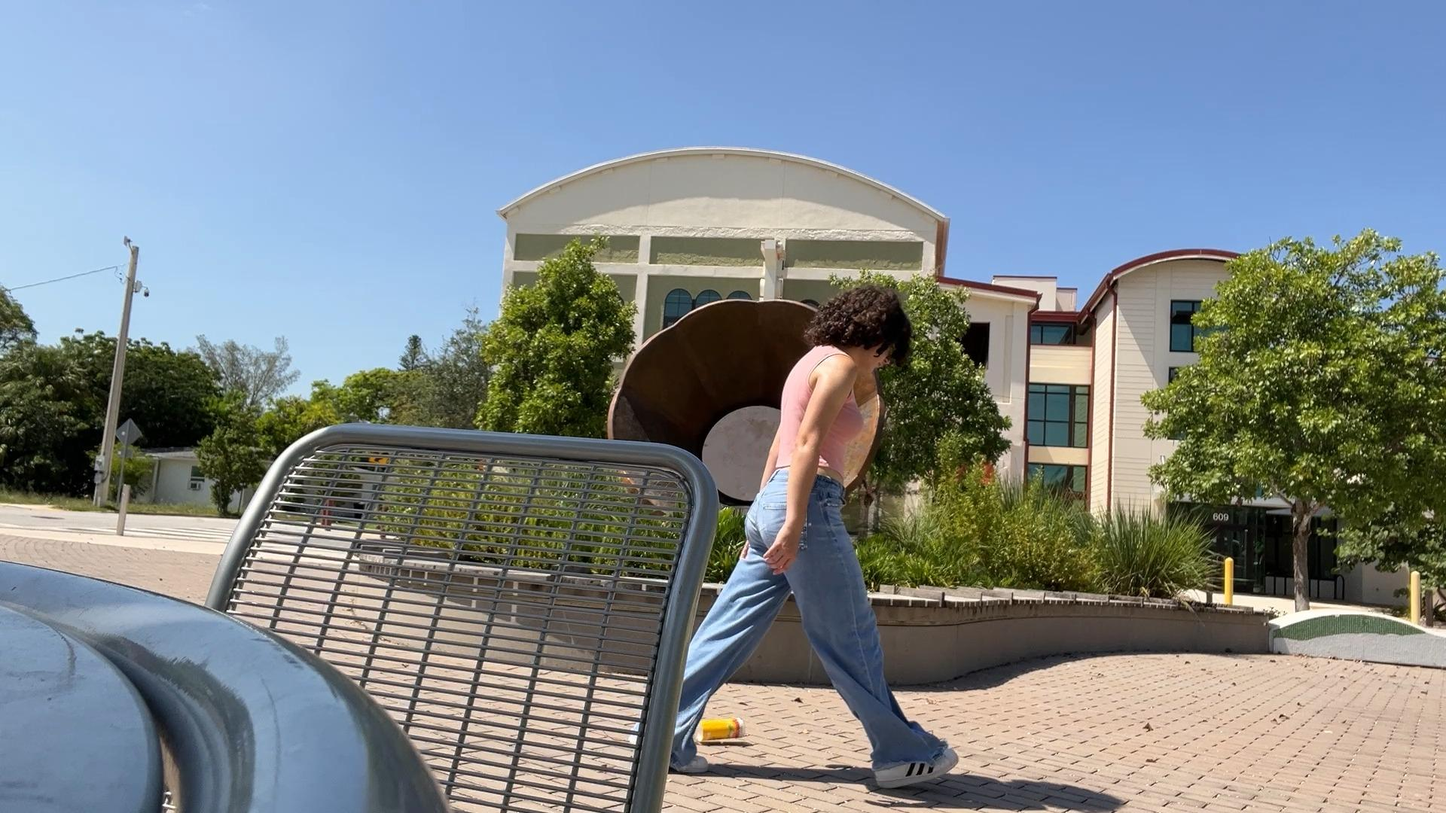Trash: (689, 706, 749, 753)
